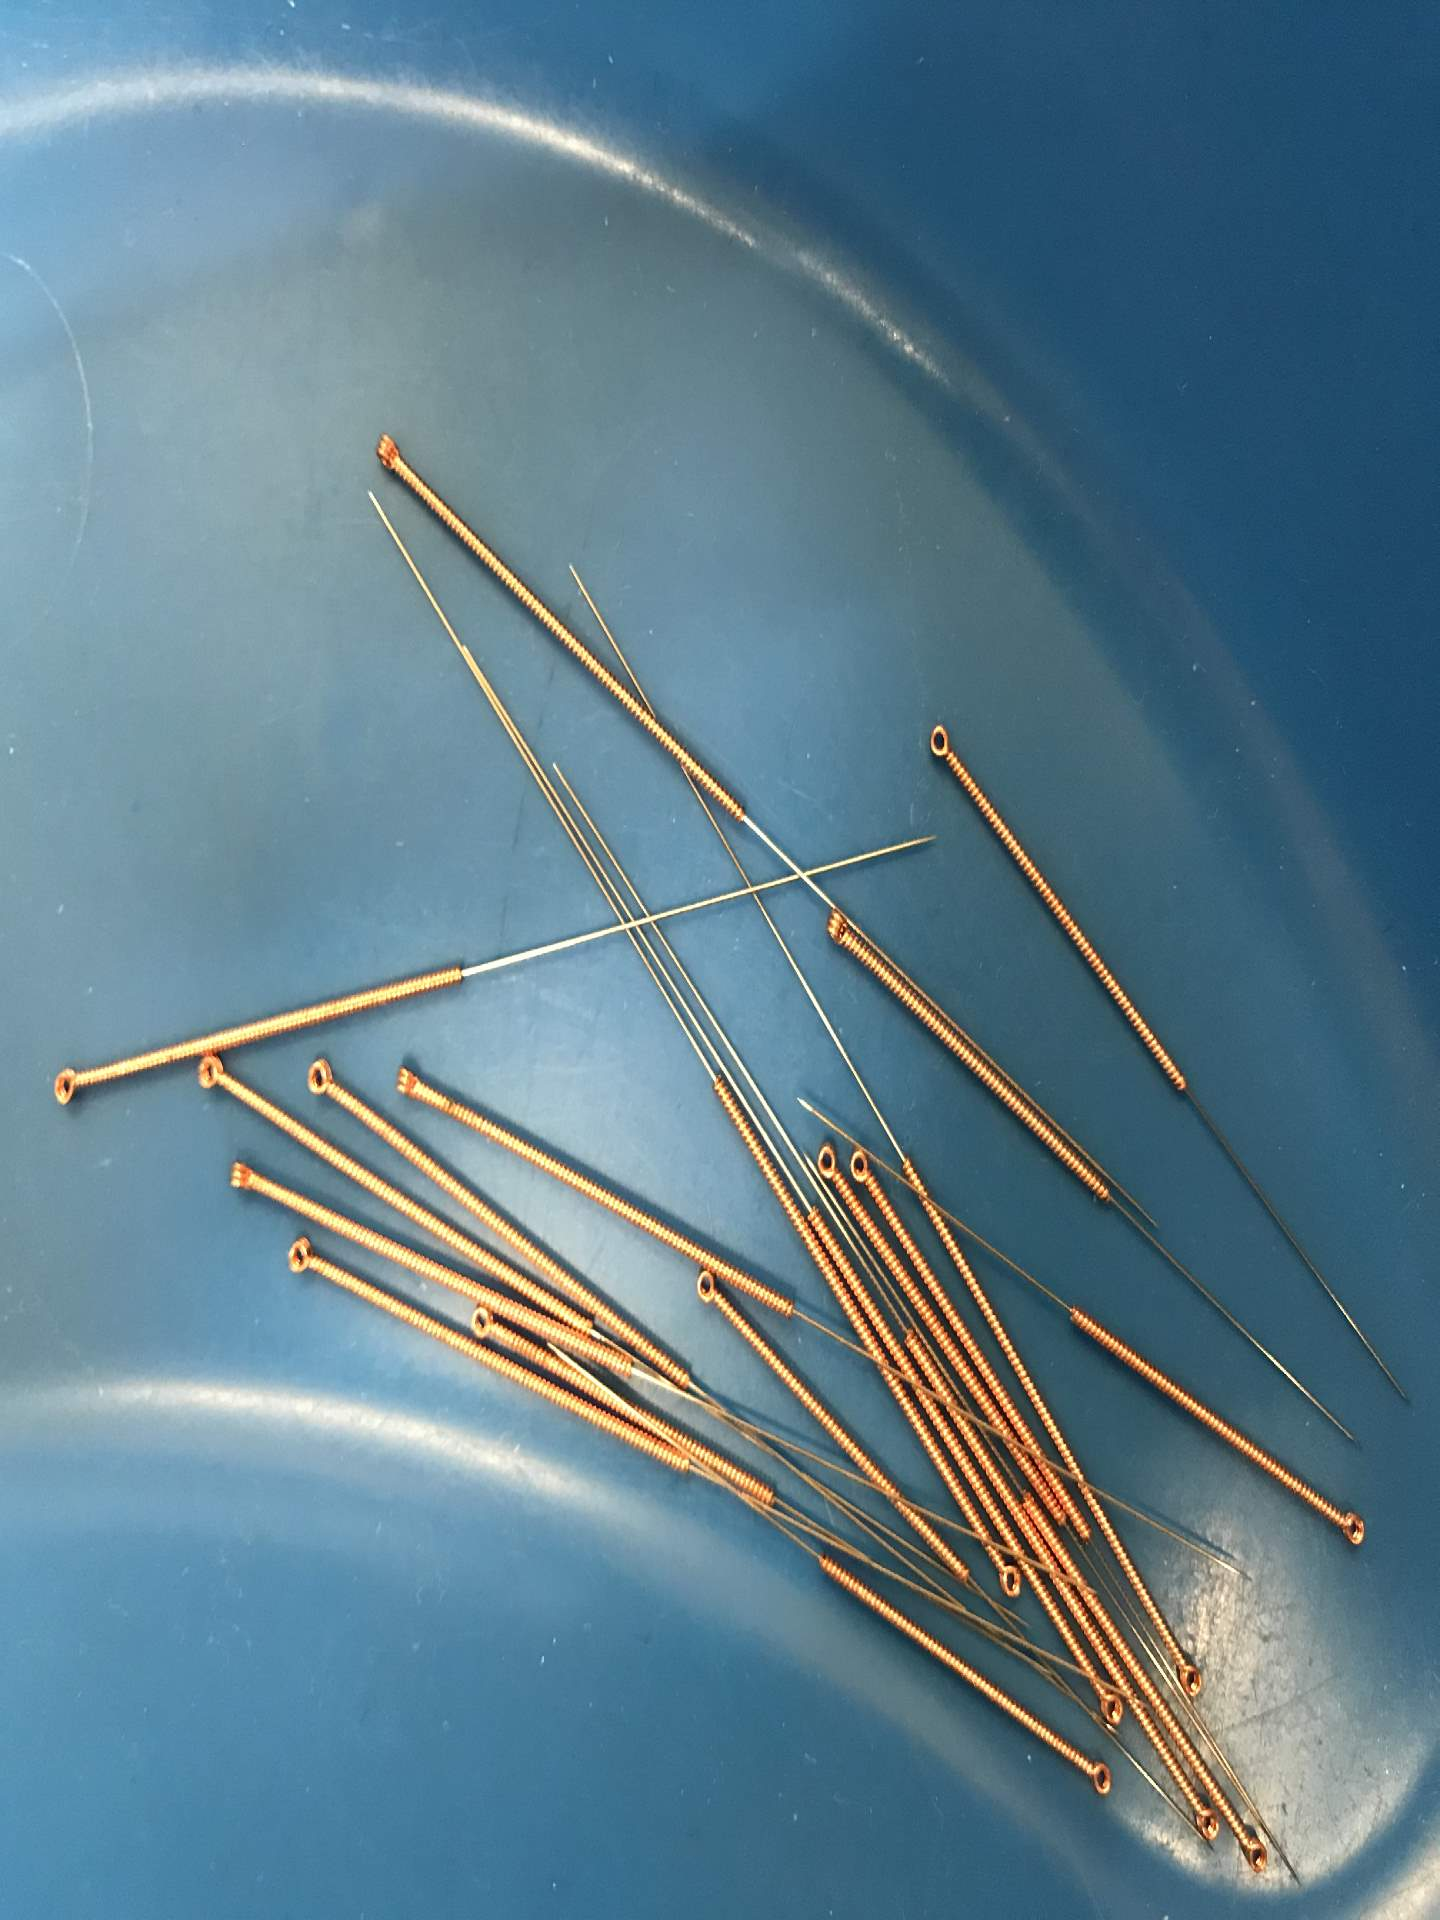needle: (41, 1060, 95, 1116), (365, 425, 414, 481), (918, 714, 964, 773), (812, 900, 859, 955), (275, 1231, 324, 1282), (296, 1051, 343, 1104), (1327, 1500, 1373, 1553), (213, 1154, 265, 1200), (1233, 1831, 1277, 1881), (1078, 1752, 1121, 1804), (390, 1058, 433, 1108), (191, 1054, 233, 1102), (1171, 1648, 1209, 1699), (1088, 1686, 1127, 1733), (988, 1559, 1026, 1604), (687, 1265, 720, 1312), (1187, 1804, 1222, 1847), (467, 1303, 504, 1342), (814, 1138, 843, 1187), (849, 1144, 877, 1193)
